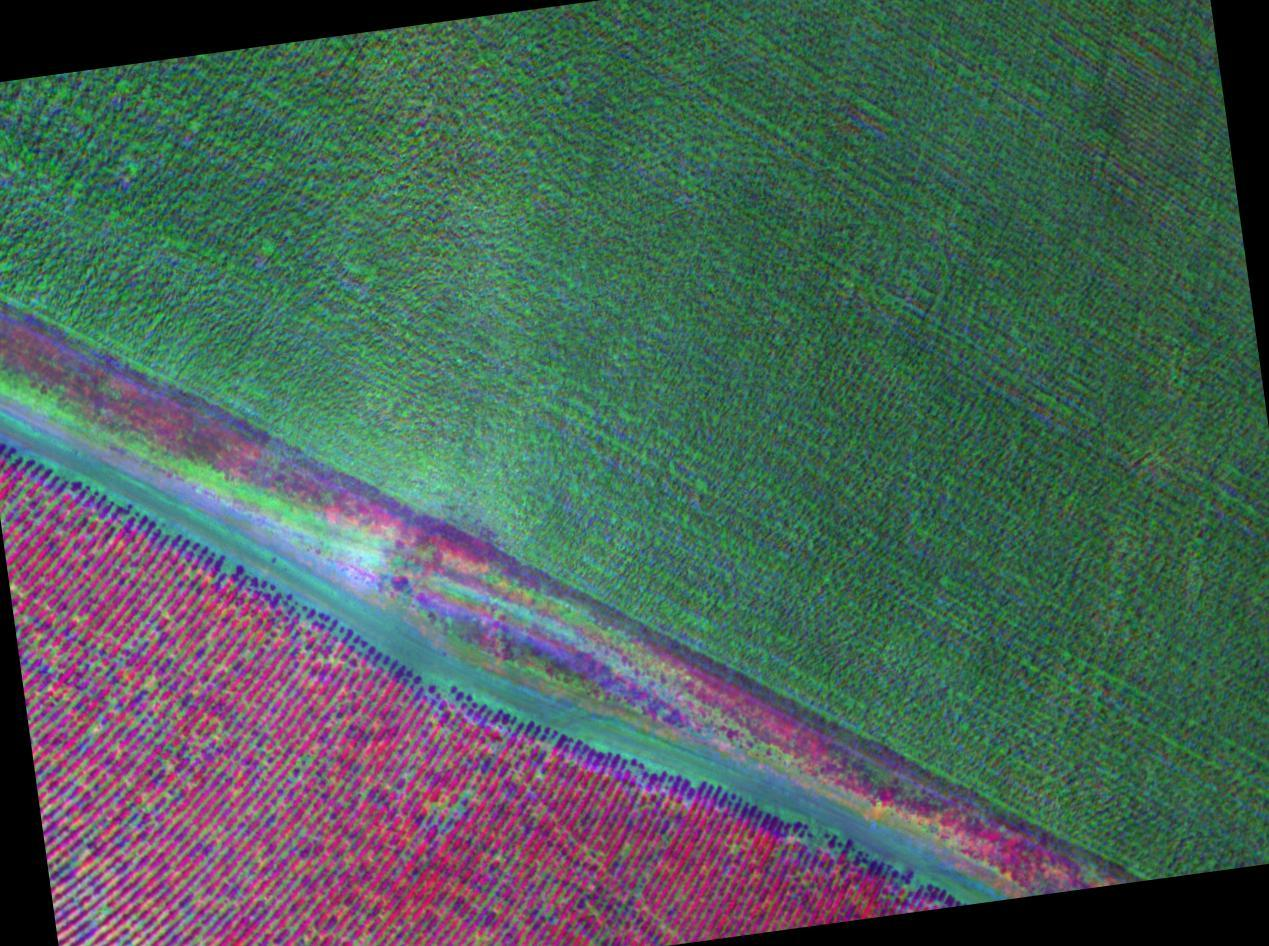dc: (401, 765, 490, 847), (118, 658, 204, 736), (73, 845, 141, 935), (218, 850, 290, 925), (26, 620, 92, 693)
